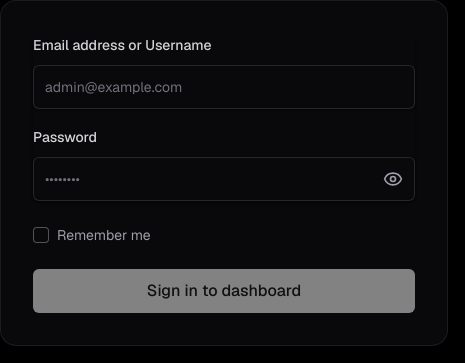
it: LoginForm › submit button is disabled until both fields are non-empty
The image size is (465, 363).
Check: the button "Sign in to dashboard" is disabled, box [33, 269, 415, 313]
In the field labelled "Email address or Username": (224, 87) [33, 65, 415, 109], type "a@b.c"
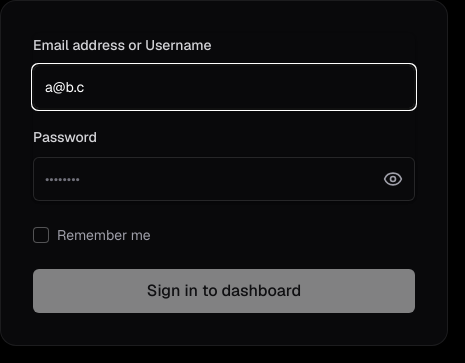
Check: the button "Sign in to dashboard" is disabled, box [33, 269, 415, 313]
In the password field labelled "Password": (224, 179) [33, 157, 415, 201], type "secret"
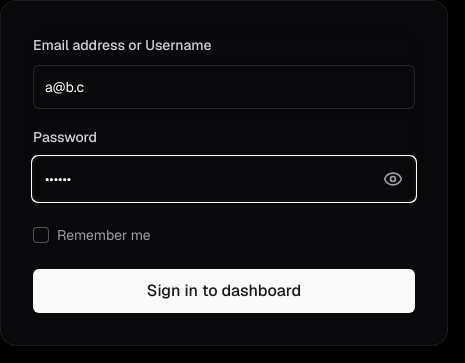
Check: the button "Sign in to dashboard" is enabled, box [33, 269, 415, 313]
